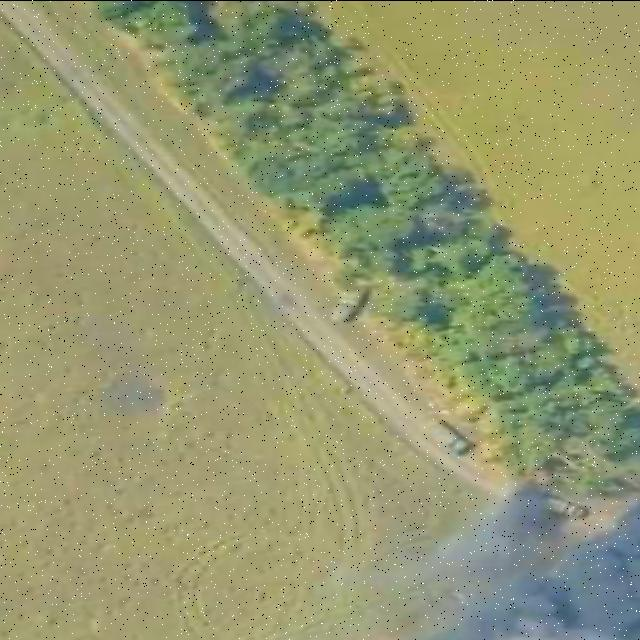TRUCK: (418, 418, 482, 458), (327, 283, 382, 325), (524, 492, 596, 522)
